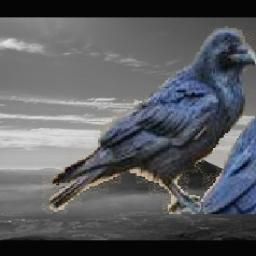Crow: (43, 26, 256, 214)
